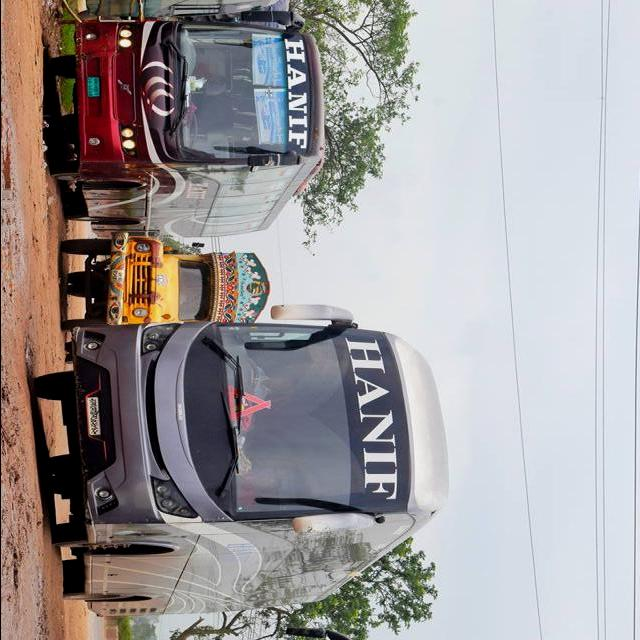bus: (30, 303, 452, 619), (45, 11, 327, 240)
